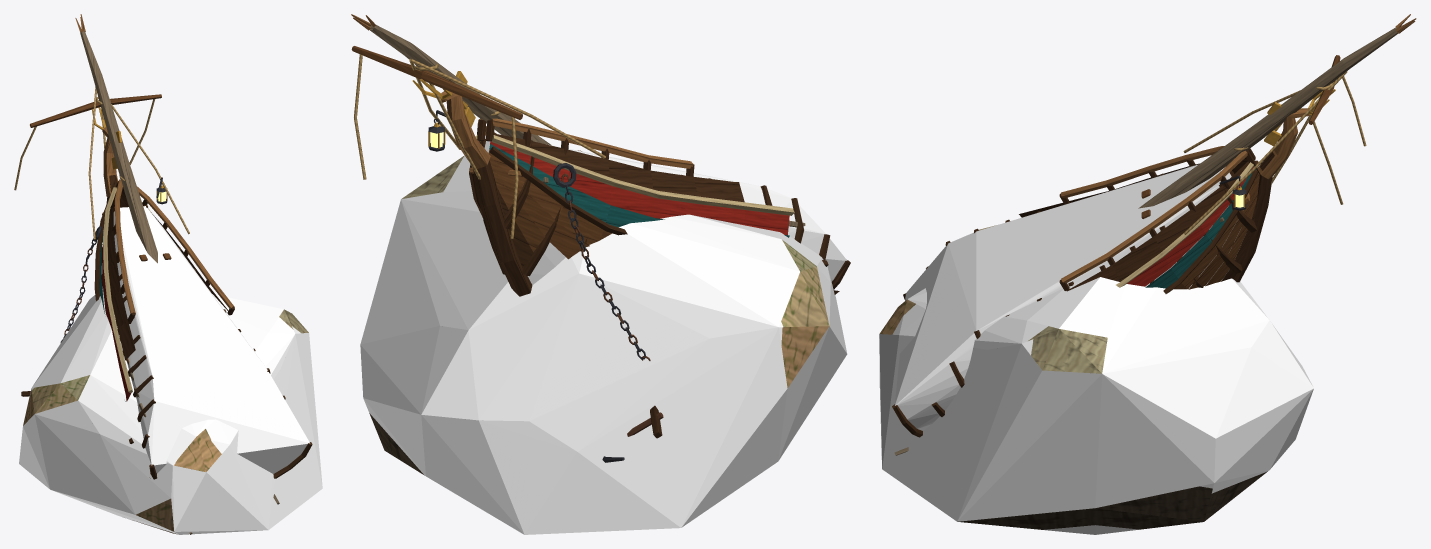
File: impaled_shipwreck_bow.glb
3 views of the same model, side by side, from view 1: azimuth 30°, elevation 25°; view 2: azimuth 150°, elevation 25°; view 3: azimuth 270°, elevation 25° (orthographic). The views are drawn at different scales.
Parts seen in each view (by area): view 1: col_wreck_rock, col_wreck_hull, ImpaledShipwreckBow; view 2: col_wreck_rock, ImpaledShipwreckBow, col_wreck_hull; view 3: col_wreck_rock, ImpaledShipwreckBow, col_wreck_hull.
Part boxes in pixels (x1,y1,x2,y2): col_wreck_rock: [19, 289, 322, 534]; col_wreck_hull: [101, 206, 309, 473]; ImpaledShipwreckBow: [14, 14, 312, 534]; col_wreck_rock: [360, 155, 847, 534]; ImpaledShipwreckBow: [351, 14, 850, 475]; col_wreck_hull: [484, 138, 847, 284]; col_wreck_rock: [879, 276, 1313, 534]; ImpaledShipwreckBow: [879, 14, 1416, 529]; col_wreck_hull: [895, 164, 1240, 430].
Size of the model in its own units: 9.43 by 12.62 by 12.63.
9 materials, 7 textured.
